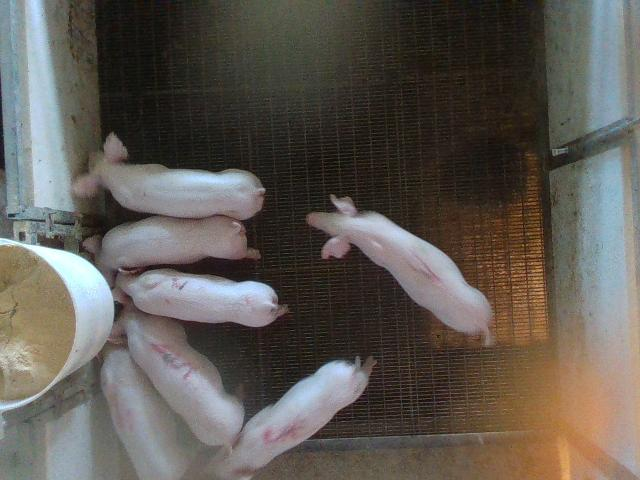pig-1: (308, 196, 491, 344)
pig-3: (110, 304, 244, 446)
pig-4: (101, 346, 195, 479)
pig-5: (205, 356, 376, 479)
